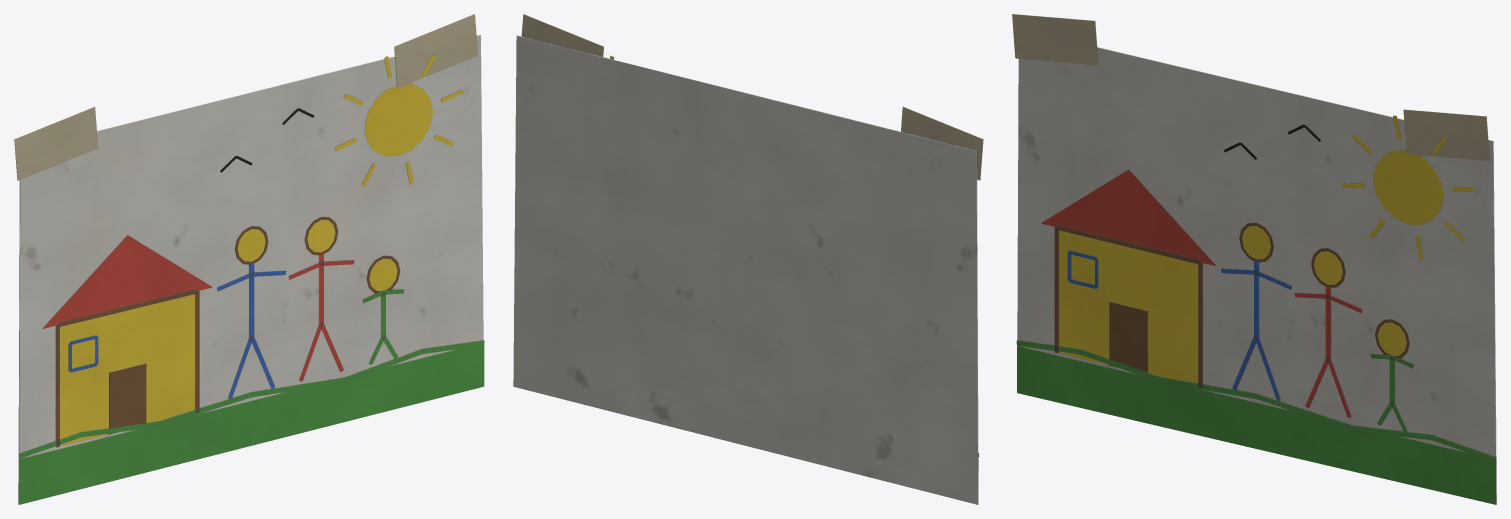
The model's file is desenho_crianca.glb.
3 views of the same model, side by side, from view 1: azimuth 30°, elevation 25°; view 2: azimuth 150°, elevation 25°; view 3: azimuth 330°, elevation 25° (orthographic). The views are drawn at different scales.
Visible parts, largest first — view 1: desenho; view 2: desenho; view 3: desenho.
Boxes of the visible parts, left/top/right/bottom form: desenho: left=14, top=14, right=484, bottom=504; desenho: left=513, top=14, right=983, bottom=504; desenho: left=1012, top=14, right=1496, bottom=504.
Bounding box in the file's own units: 0.3031 × 0.234 × 0.0011.
Materials: 1 (1 with a texture image).
